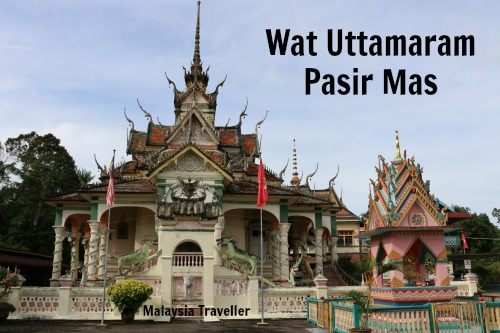Buddhist Temple: (72, 4, 437, 305)
